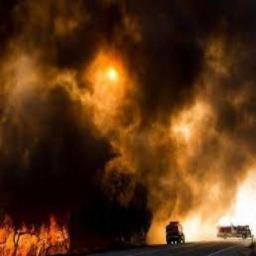Heavy smoke: (1, 1, 256, 204)
Large fire: (1, 2, 160, 256)
